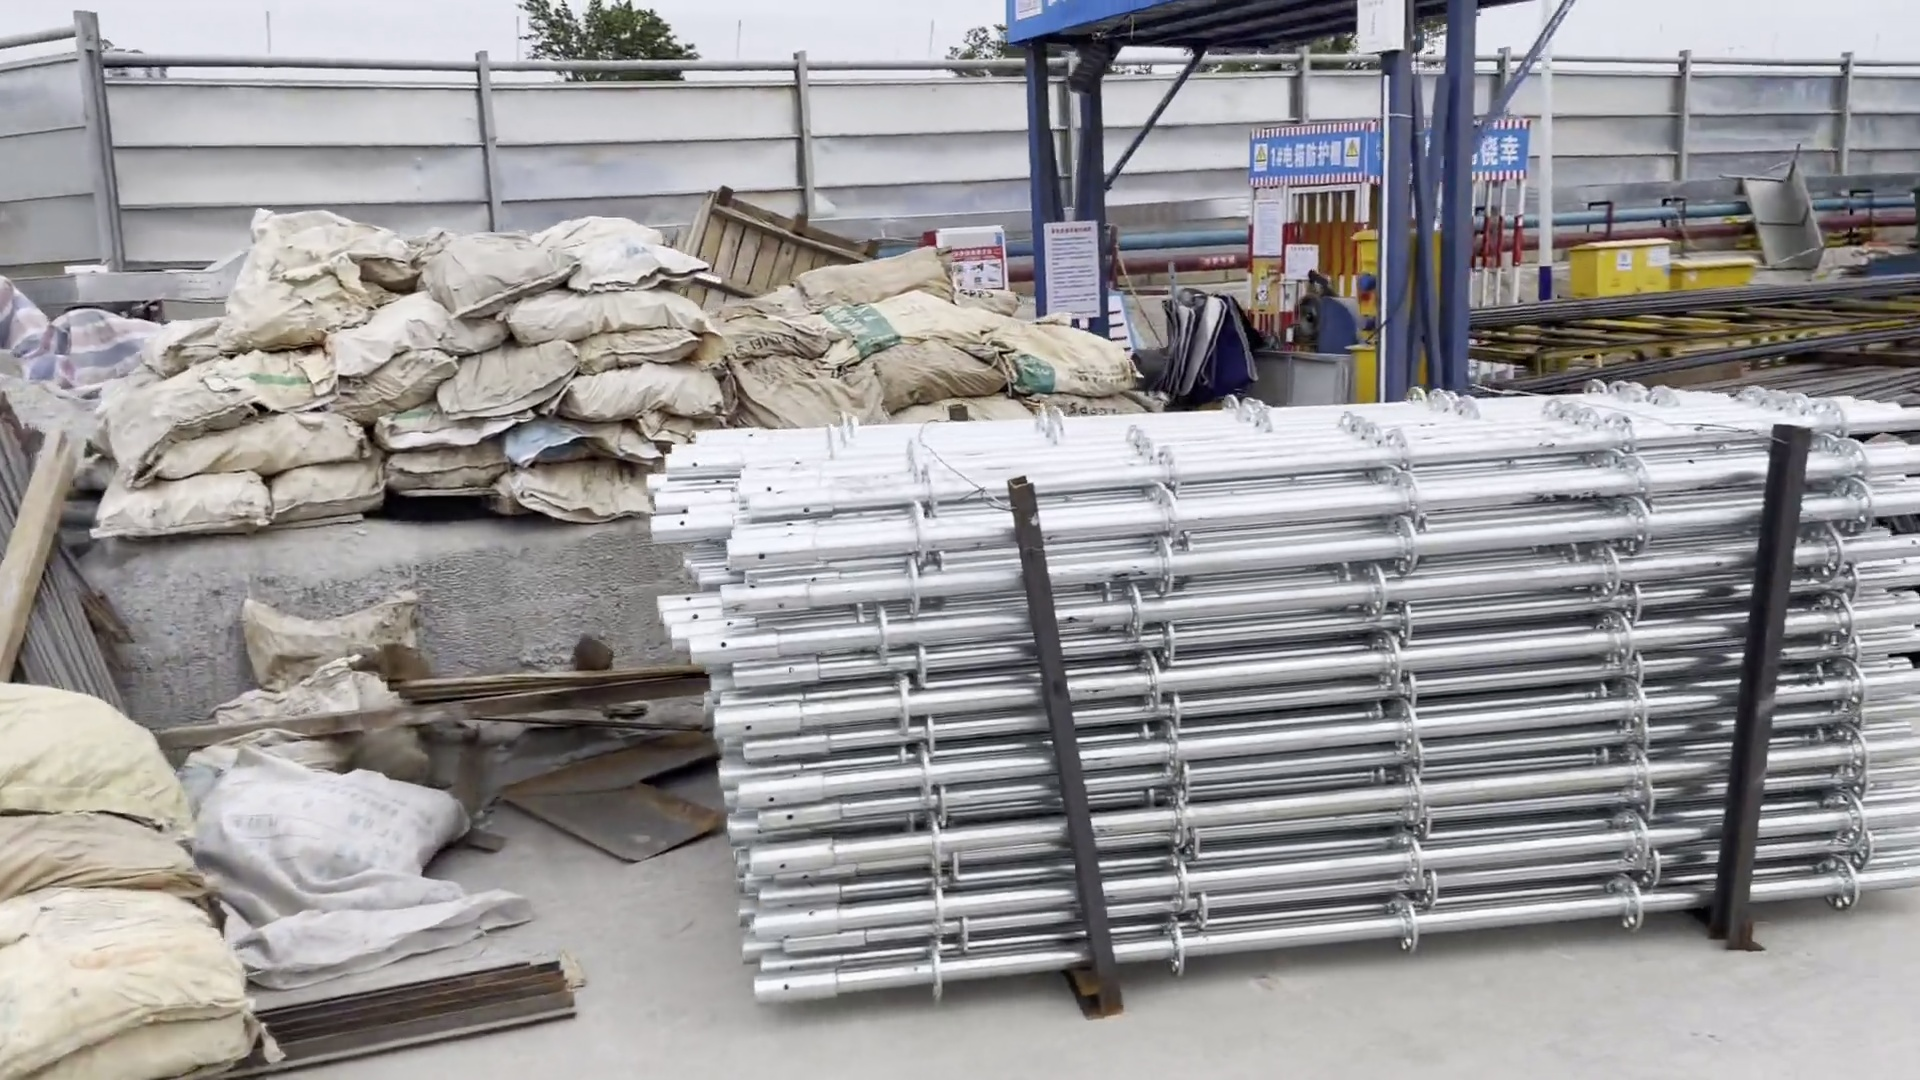ebox: (1344, 222, 1433, 345), (1567, 231, 1673, 301), (1673, 241, 1770, 298)
rebar: (1437, 270, 1920, 342)
scaffold: (647, 371, 1920, 1004)
